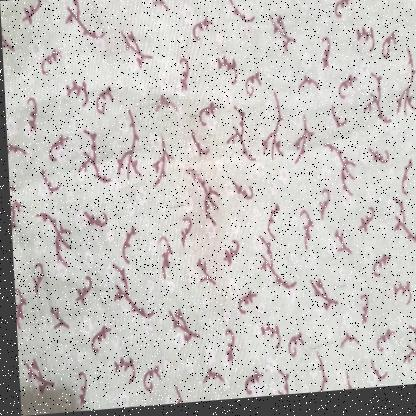spot: (176, 78, 235, 309)
